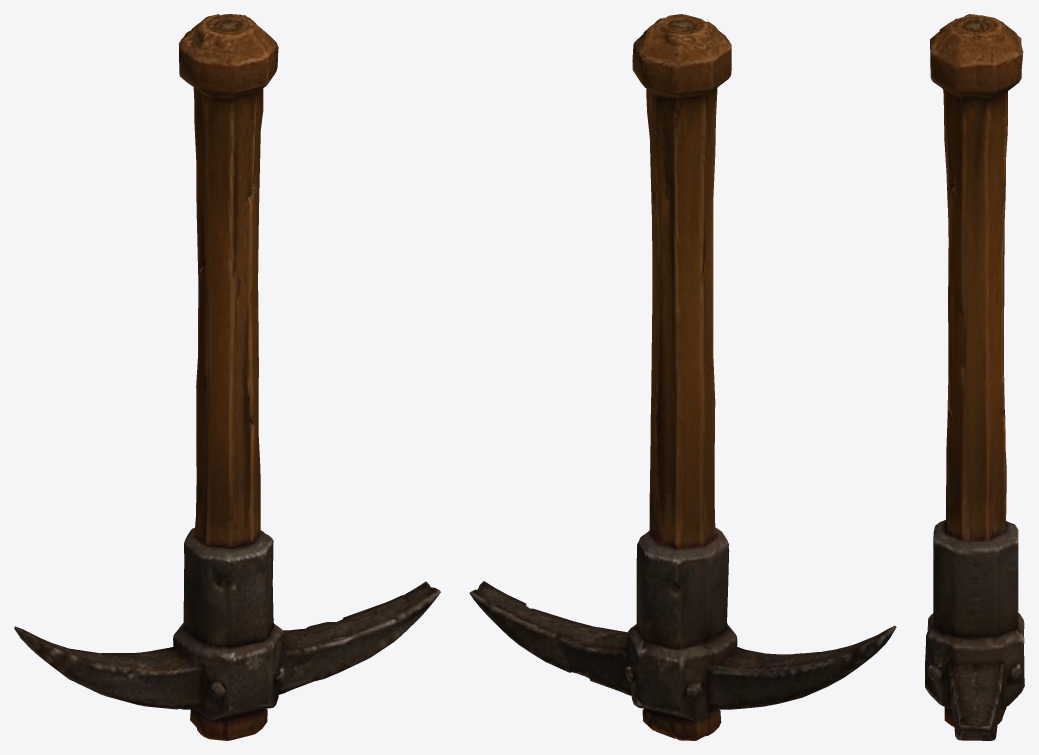
File: picota.glb
3 views of the same model, side by side, from view 1: azimuth 30°, elevation 25°; view 2: azimuth 150°, elevation 25°; view 3: azimuth 270°, elevation 25° (orthographic).
Parts seen in each view (by area): view 1: picota; view 2: picota; view 3: picota.
Part boxes in pixels (<box>): picota: <box>14,14,440,740</box>; picota: <box>469,14,896,740</box>; picota: <box>925,14,1024,740</box>.
Size of what is drawn, in the model's own units: 0.522 by 0.8499 by 0.111.
1 material, 1 textured.
